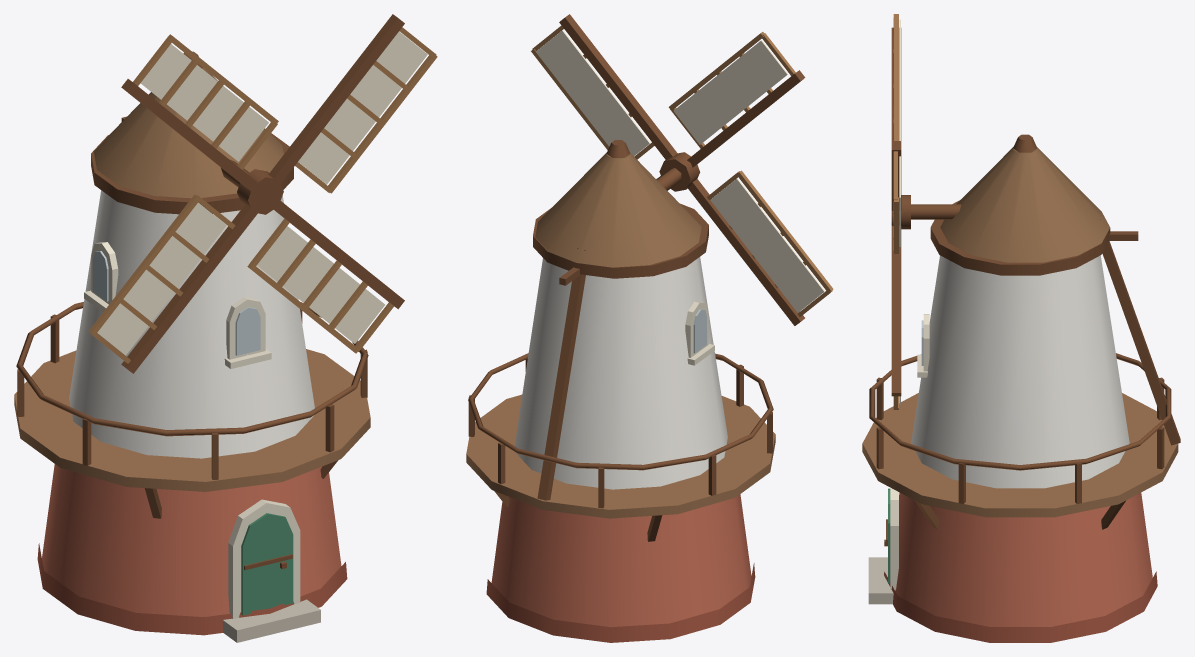
Rendered from dutch_windmill.glb.
The picture shows the model from 3 angles, left to right: view 1: azimuth 30°, elevation 25°; view 2: azimuth 150°, elevation 25°; view 3: azimuth 270°, elevation 25°; orthographic projection. The views are drawn at different scales.
Visible parts, largest first — view 1: upper_body, brick_base, gallery_deck, cap_roof, blade_3_sail, blade_1_sail, blade_0_sail, blade_2_sail, brick_plinth_band, door, blade_3_stock, gallery_rail (+19 smaller); view 2: upper_body, brick_base, gallery_deck, cap_roof, blade_1_sail, blade_0_sail, blade_3_sail, brick_plinth_band, tail_pole, gallery_rail, cap_ring, blade_3_stock (+8 smaller); view 3: upper_body, brick_base, gallery_deck, cap_roof, brick_plinth_band, cap_ring, gallery_rail, tail_pole, blade_2_stock, door_step, door_surround, axle (+3 smaller).
Part boxes in pixels (x1,y1,x2,y2): upper_body: (69,190,314,458); brick_base: (42,464,341,616); gallery_deck: (14,349,370,491); cap_roof: (94,68,283,198); blade_3_sail: (298,31,427,184); blade_1_sail: (97,202,226,355); blade_0_sail: (140,44,268,161); blade_2_sail: (257,226,385,343); brick_plinth_band: (37,543,347,635); door: (241,513,293,615); blade_3_stock: (268,14,404,191); gallery_rail: (16,302,368,436); upper_body: (514,257,727,489); brick_base: (491,494,751,627); gallery_deck: (466,394,775,518); cap_roof: (535,152,701,267); blade_1_sail: (710,178,824,312); blade_0_sail: (673,40,787,144); blade_3_sail: (536,30,650,155); brick_plinth_band: (486,563,755,642); tail_pole: (537,248,585,500); gallery_rail: (468,353,773,470); cap_ring: (533,203,708,278); blade_3_stock: (559,14,677,159); upper_body: (911,255,1129,488); brick_base: (895,492,1152,626); gallery_deck: (862,393,1178,517); cap_roof: (940,146,1109,262); brick_plinth_band: (884,571,1157,642); cap_ring: (930,200,1110,275); gallery_rail: (869,353,1171,470); tail_pole: (1100,215,1180,445); blade_2_stock: (891,225,901,396); door_step: (868,557,895,604); door_surround: (890,487,898,589); axle: (911,204,961,219).
Size of the model in its own units: 2.88 by 4.84 by 2.62.
